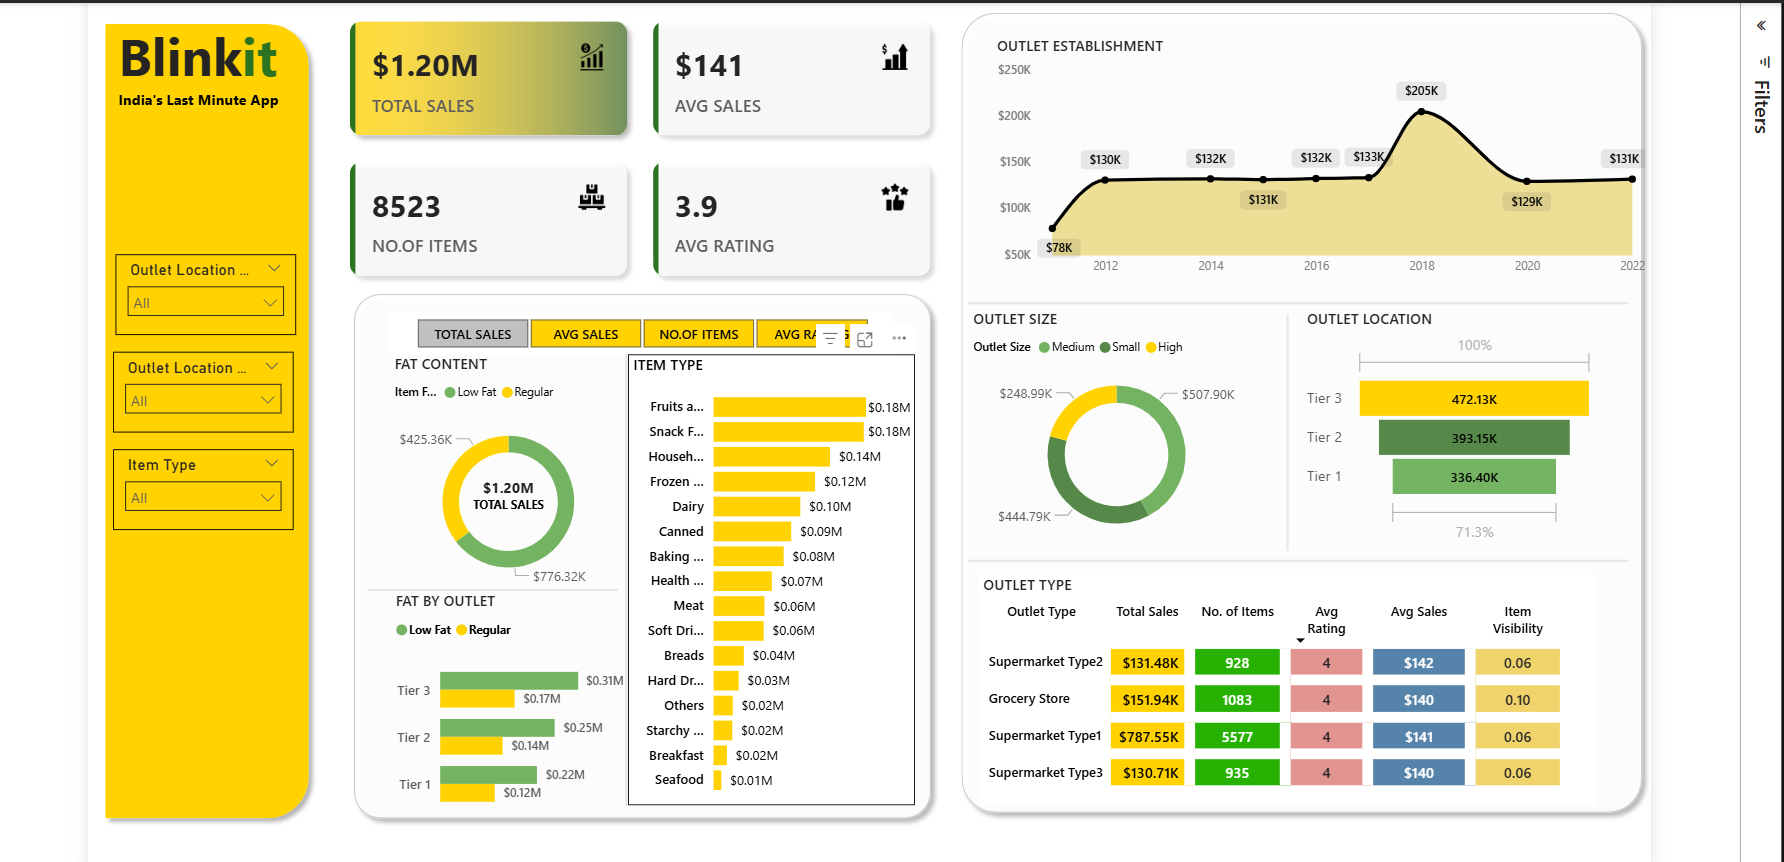

The page's visual inventory and layout, read from the dashboard file:
{"tool":"powerbi","page":{"name":"Page 1","canvas":[1440,800],"ordinal":0},"visuals":[{"type":"shape","box":[6.5,10.5,205.4,749.6],"z":0},{"type":"textbox","box":[23.5,10.5,166.1,103.3],"z":1000},{"type":"textbox","box":[24.9,78.5,166.1,35.3],"z":2000},{"type":"cardVisual","fields":{"Data":["BlinkIT Grocery Data.TOTAL SALES","BlinkIT Grocery Data.AVG SALES","BlinkIT Grocery Data.NO.OF ITEMS","BlinkIT Grocery Data.AVG RATING"]},"box":[225,0,569,269.5],"z":3000},{"type":"shape","box":[235.5,259,549.4,501],"z":4000},{"type":"donutChart","title":"FAT CONTENT","fields":{"Y":["BlinkIT Grocery Data.TOTAL SALES"],"Category":["BlinkIT Grocery Data.Item Fat Content"]},"box":[277.2,322.3,219.9,229],"z":5000},{"type":"slicer","fields":{"Values":["Metrics.Metrics"]},"box":[277.3,283.9,464.4,39.2],"z":6000},{"type":"cardVisual","fields":{"Data":["BlinkIT Grocery Data.TOTAL SALES"]},"box":[337.5,420.8,100,55.8],"z":7000},{"type":"slicer","fields":{"Values":["BlinkIT Grocery Data.Outlet Location Type"]},"box":[24.9,231.5,166.1,74.6],"z":8000},{"type":"slicer","fields":{"Values":["BlinkIT Grocery Data.Outlet Location Type","BlinkIT Grocery Data.Outlet Size"]},"box":[23.5,321.8,166.1,74.6],"z":9000},{"type":"slicer","fields":{"Values":["BlinkIT Grocery Data.Item Type"]},"box":[23.5,410.8,166.1,74.6],"z":10000},{"type":"barChart","title":"ITEM TYPE","fields":{"Category":["BlinkIT Grocery Data.Item Type"],"Y":["BlinkIT Grocery Data.TOTAL SALES"]},"box":[497.1,323.1,265.6,416],"z":11000},{"type":"clusteredBarChart","title":"FAT BY OUTLET","fields":{"Y":["BlinkIT Grocery Data.TOTAL SALES"],"Category":["BlinkIT Grocery Data.Outlet Location Type"],"Series":["BlinkIT Grocery Data.Item Fat Content"]},"box":[278.6,541.6,219.8,218.5],"z":12000},{"type":"shape","box":[257.7,531.1,230.2,19.6],"z":13000},{"type":"shape","box":[485.3,323.1,22.2,416],"z":14000},{"type":"shape","box":[795.4,0,644.9,754.8],"z":15000},{"type":"lineChart","title":"OUTLET ESTABLISHMENT","fields":{"Category":["BlinkIT Grocery Data.Outlet Establishment Year"],"Y":["BlinkIT Grocery Data.TOTAL SALES"]},"box":[832.8,30.4,607.2,229.9],"z":16000},{"type":"shape","box":[811,269.5,608.3,14.4],"z":17000},{"type":"donutChart","title":"OUTLET SIZE","fields":{"Y":["BlinkIT Grocery Data.TOTAL SALES"],"Category":["BlinkIT Grocery Data.Outlet Size"]},"box":[811,281.3,274,225],"z":18000},{"type":"funnel","title":"OUTLET LOCATION","fields":{"Category":["BlinkIT Grocery Data.Outlet Location Type"],"Y":["Sum(BlinkIT Grocery Data.Sales)"]},"box":[1118.5,281.3,274.7,221.1],"z":19000},{"type":"shape","box":[1093.6,287.8,22.2,217.2],"z":20000},{"type":"shape","box":[811,506.3,608.3,14.4],"z":21000},{"type":"pivotTable","title":"OUTLET TYPE","fields":{"Rows":["BlinkIT Grocery Data.Outlet Type"],"Values":["BlinkIT Grocery Data.TOTAL SALES","BlinkIT Grocery Data.NO.OF ITEMS","BlinkIT Grocery Data.AVG RATING","BlinkIT Grocery Data.AVG SALES","Avg(BlinkIT Grocery Data.Item Visibility)"]},"box":[820.2,525.9,570.4,213.2],"z":22000}]}

Visuals, with their boxes on the page's 1440x800 design canvas (x1, y1, x2, y2). These are canvas units, not pixel positions in the 1784x862 screenshot, which may show the page scaled, cropped or inside an application window:
shape: (left=6, top=10, right=212, bottom=760)
textbox: (left=24, top=10, right=190, bottom=114)
textbox: (left=25, top=78, right=191, bottom=114)
cardVisual - BlinkIT Grocery Data.TOTAL SALES x BlinkIT Grocery Data.AVG SALES: (left=225, top=0, right=794, bottom=270)
shape: (left=236, top=259, right=785, bottom=760)
"FAT CONTENT" donutChart: (left=277, top=322, right=497, bottom=551)
slicer - Metrics.Metrics: (left=277, top=284, right=742, bottom=323)
cardVisual - BlinkIT Grocery Data.TOTAL SALES: (left=338, top=421, right=438, bottom=477)
slicer - BlinkIT Grocery Data.Outlet Location Type: (left=25, top=232, right=191, bottom=306)
slicer - BlinkIT Grocery Data.Outlet Location Type x BlinkIT Grocery Data.Outlet Size: (left=24, top=322, right=190, bottom=396)
slicer - BlinkIT Grocery Data.Item Type: (left=24, top=411, right=190, bottom=485)
"ITEM TYPE" barChart: (left=497, top=323, right=763, bottom=739)
"FAT BY OUTLET" clusteredBarChart: (left=279, top=542, right=498, bottom=760)
shape: (left=258, top=531, right=488, bottom=551)
shape: (left=485, top=323, right=508, bottom=739)
shape: (left=795, top=0, right=1440, bottom=755)
"OUTLET ESTABLISHMENT" lineChart: (left=833, top=30, right=1440, bottom=260)
shape: (left=811, top=270, right=1419, bottom=284)
"OUTLET SIZE" donutChart: (left=811, top=281, right=1085, bottom=506)
"OUTLET LOCATION" funnel: (left=1118, top=281, right=1393, bottom=502)
shape: (left=1094, top=288, right=1116, bottom=505)
shape: (left=811, top=506, right=1419, bottom=521)
"OUTLET TYPE" pivotTable: (left=820, top=526, right=1391, bottom=739)
